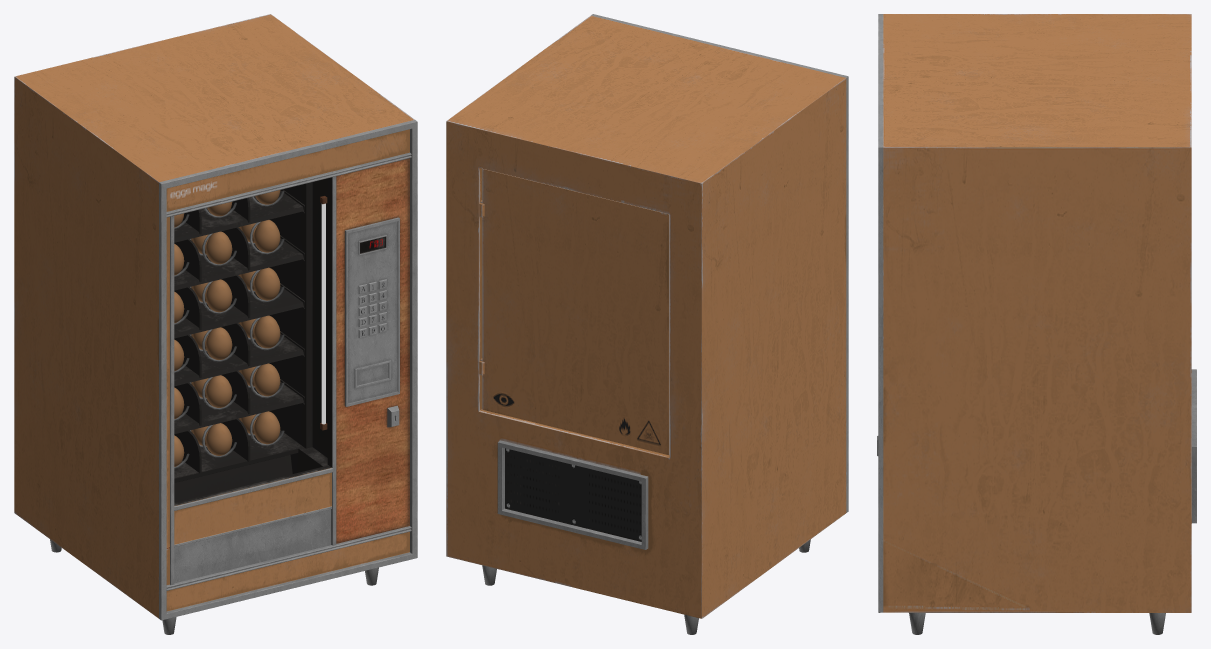
File: vending_machine.glb
3 renders of one model, left to right at view 1: azimuth 30°, elevation 25°; view 2: azimuth 150°, elevation 25°; view 3: azimuth 270°, elevation 25°, orthographic. The views are drawn at different scales.
Visible parts, largest first — view 1: vend.m_0, eggs_1; view 2: vend.m_0; view 3: vend.m_0.
Boxes of the visible parts, x1,y1,x2,y2 form: vend.m_0: (14, 14, 417, 634); eggs_1: (174, 190, 280, 466); vend.m_0: (446, 14, 848, 634); vend.m_0: (877, 14, 1196, 634).
Size of the model in its own units: 2.05 by 3.57 by 2.07.
7 materials, 5 textured.
